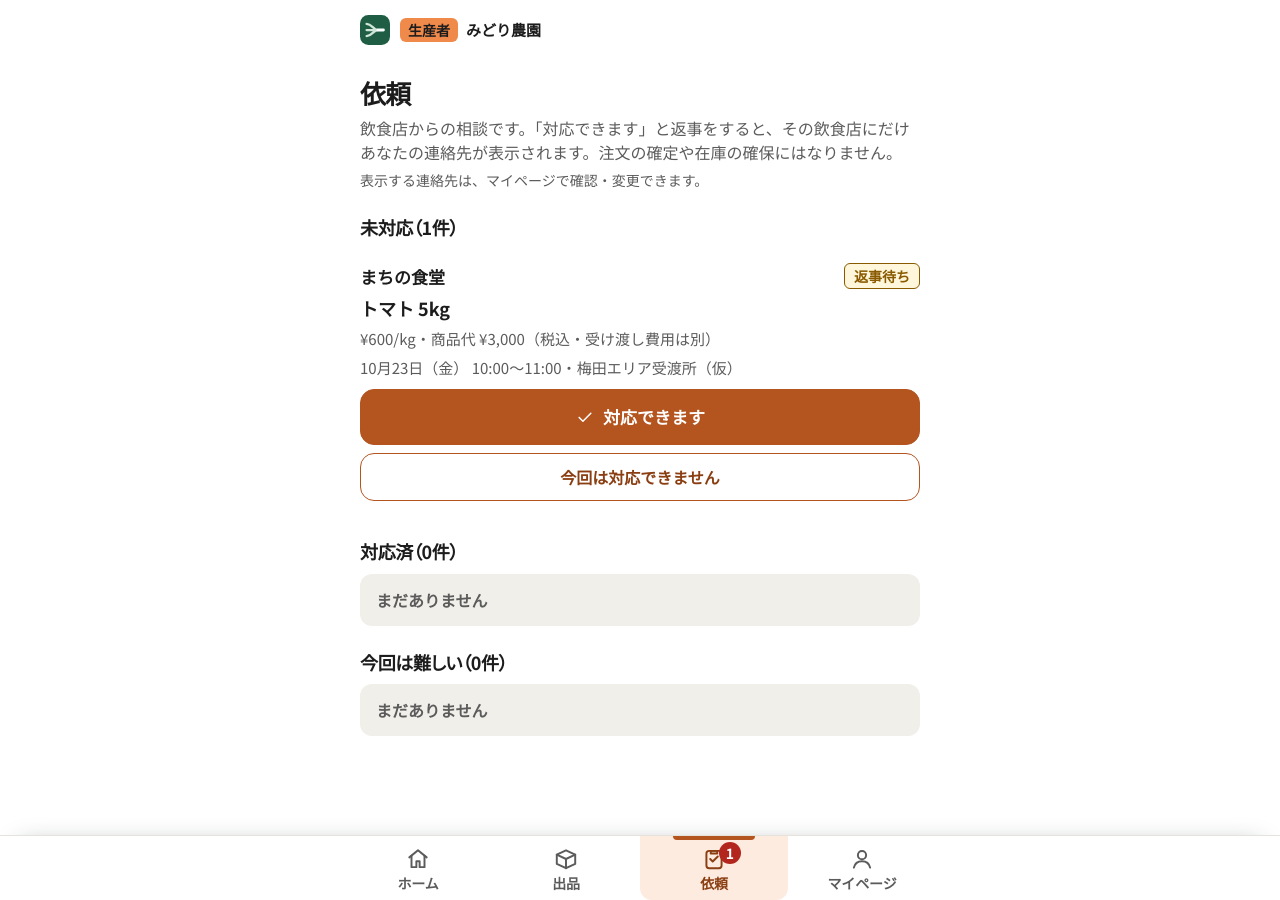
Test: 生産者の「依頼」 › 「今回は対応できません」も返事できる
The width and height of the screenshot is (1280, 900).
Click the button "今回は対応できません". click: [640, 478]
box: x1=360 y1=454 x2=920 y2=502
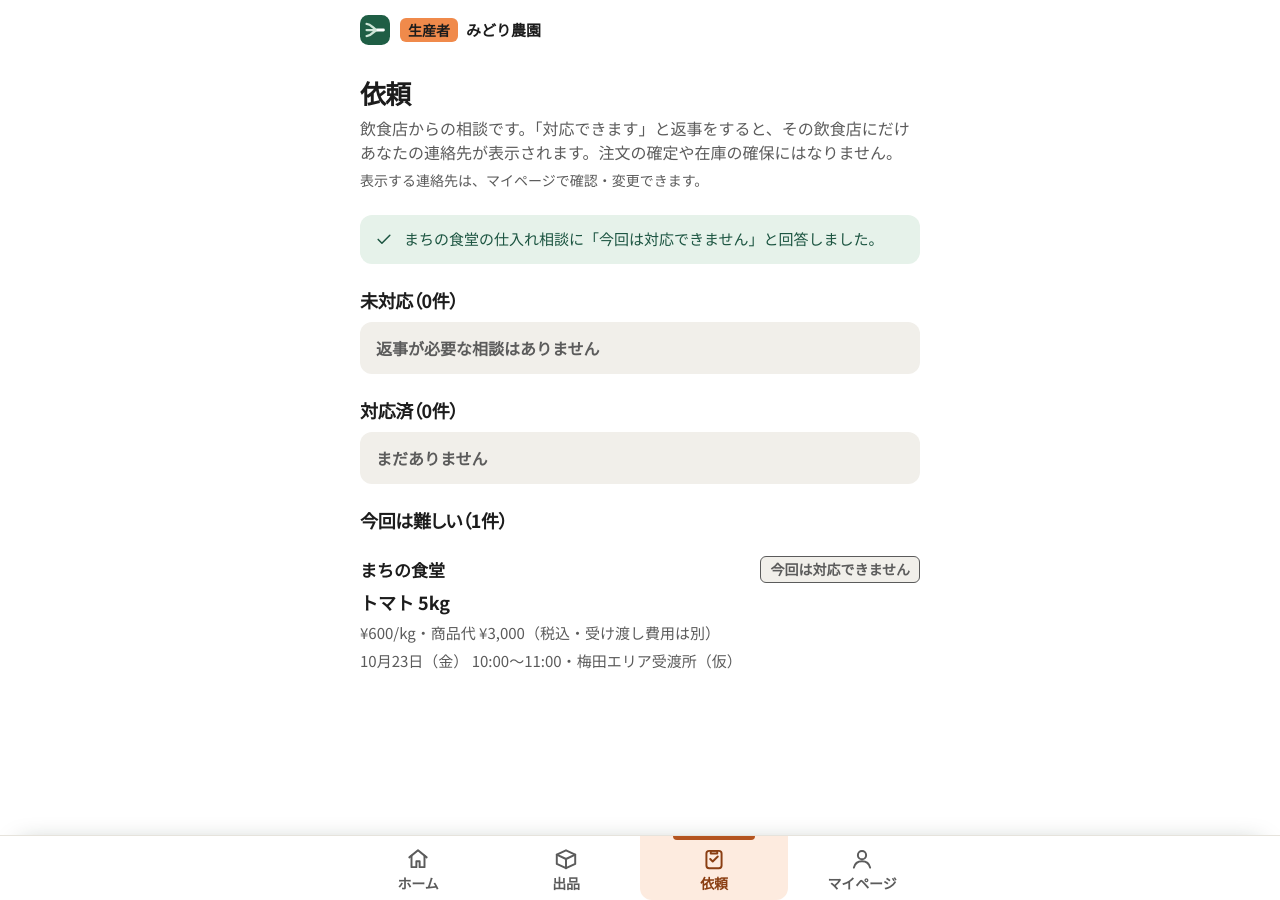
Expected: the message with class "alert" reads "まちの食堂の仕入れ相談に「今回は対応できません」と回答しました。", x1=404 y1=228 x2=884 y2=249
Expected: the text "今回は難しい（1件）" is shown, x1=360 y1=507 x2=507 y2=533
